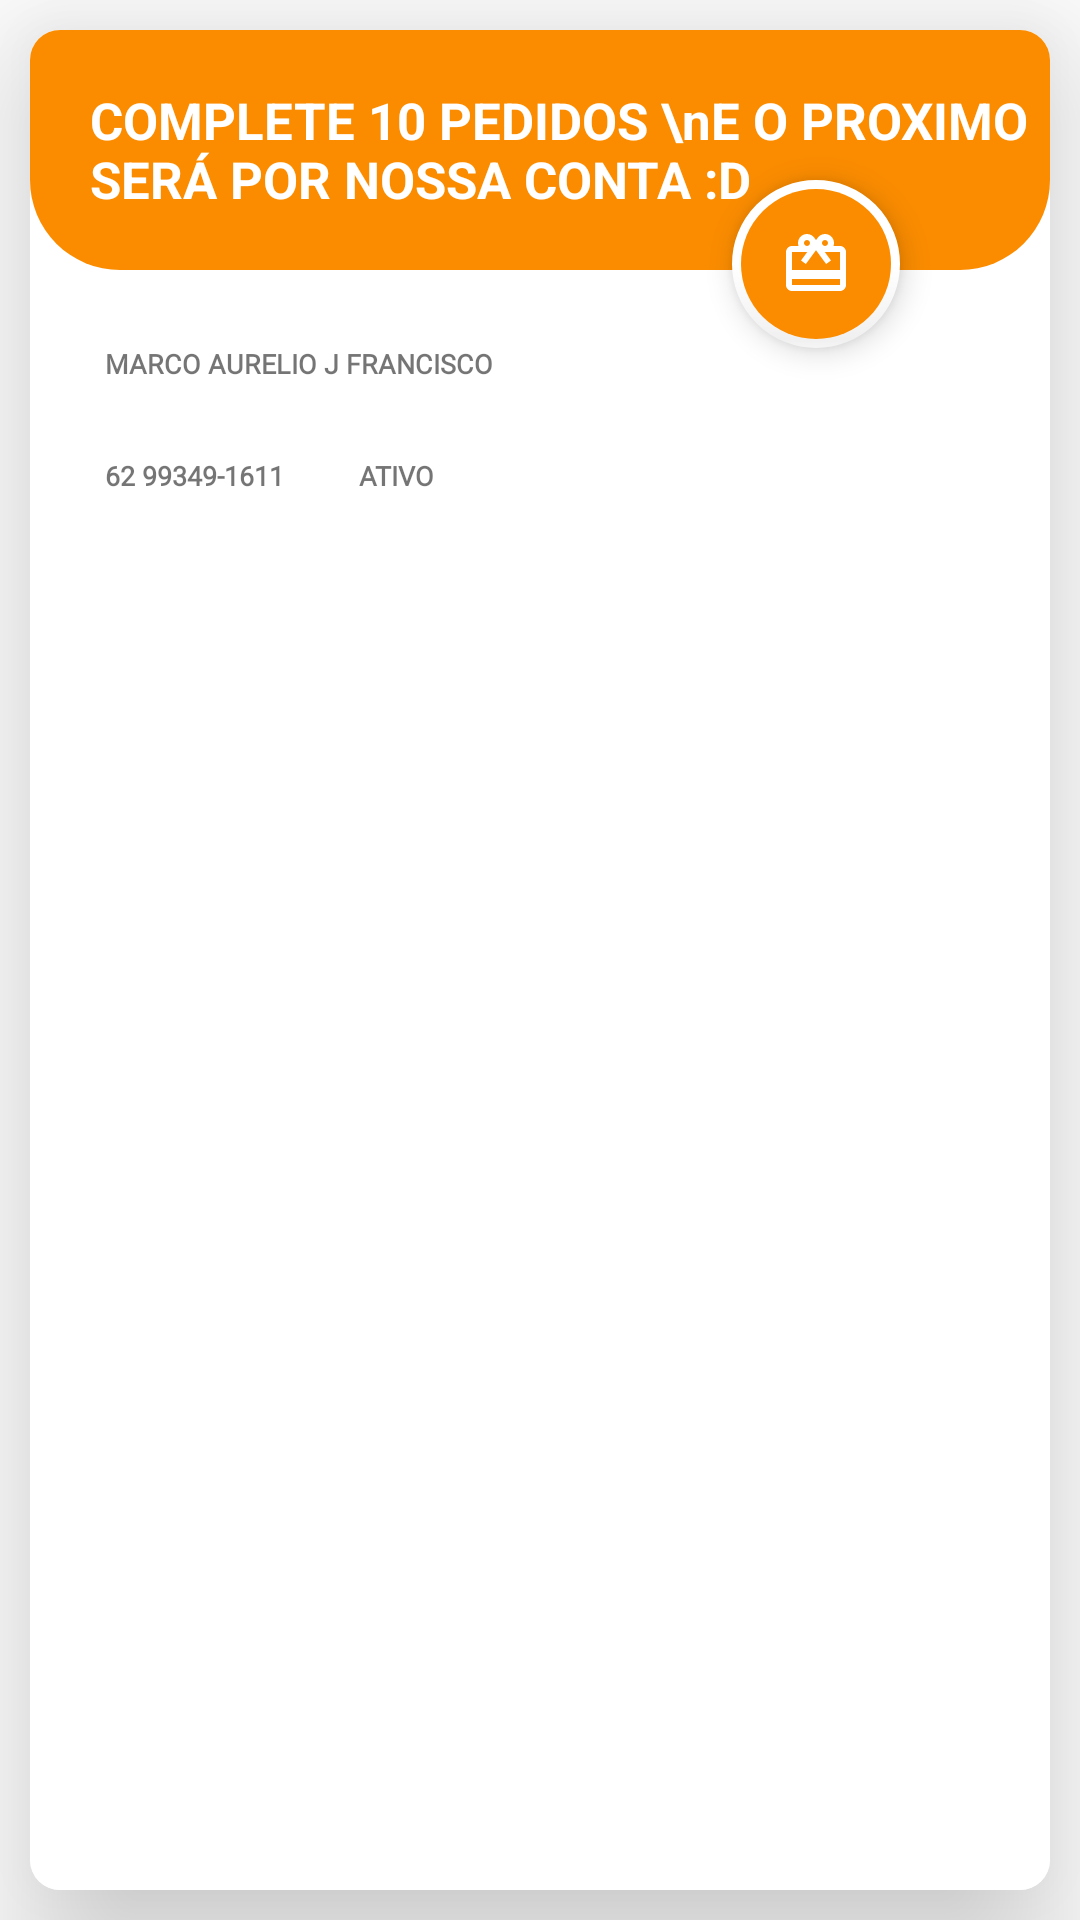

Where to tap for icons on this 1080×1920 app screen, as (x,y):
card giftcard: (816,264)
